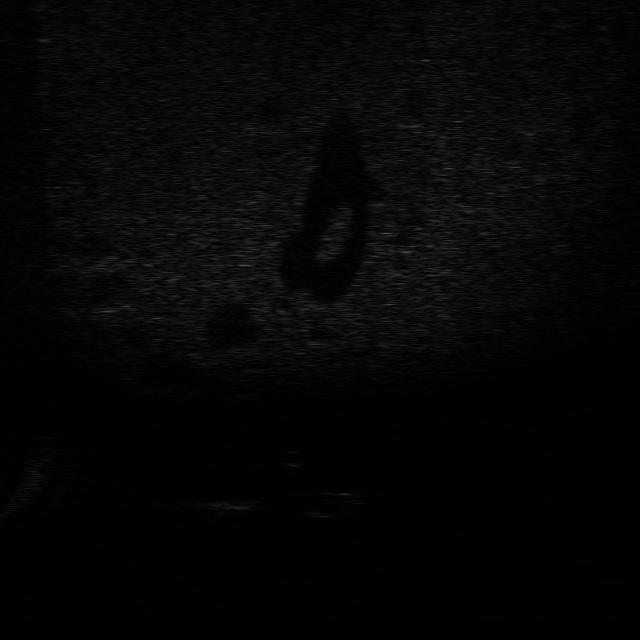ball: (268, 441, 312, 471)
square cage: (192, 489, 270, 520)
tyre: (294, 488, 370, 522)
